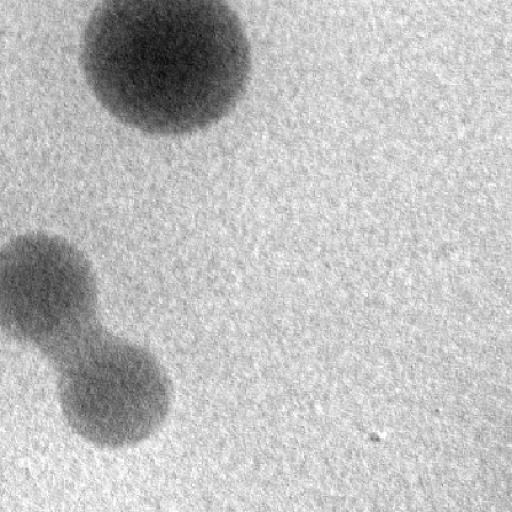Nanoparticles: (81, 0, 254, 136), (54, 333, 174, 451), (0, 231, 98, 340), (41, 317, 117, 378)
